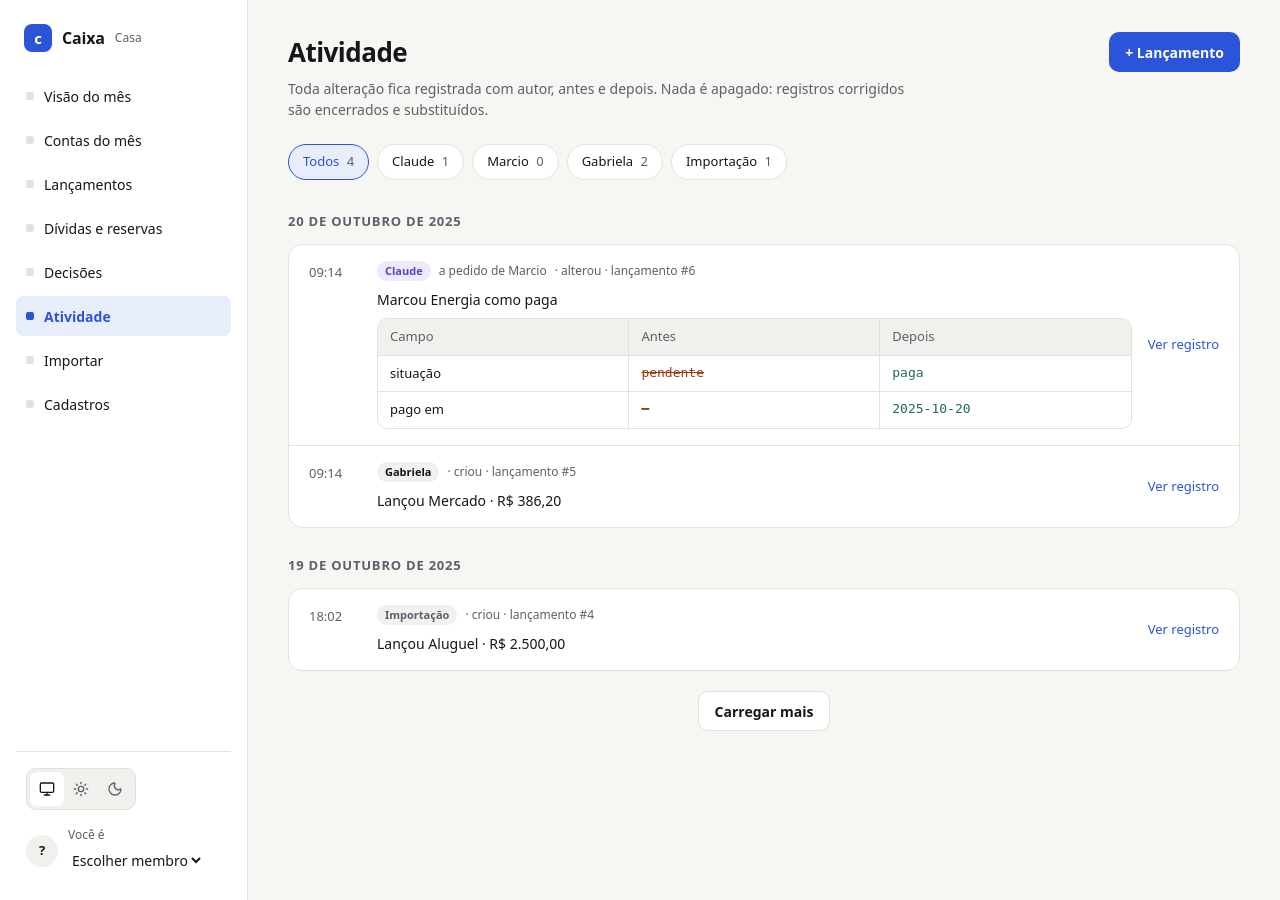
Scenario: loads older pages with the cursor
Click the button "Carregar mais".
click(764, 711)  # box x1=698 y1=691 x2=830 y2=731
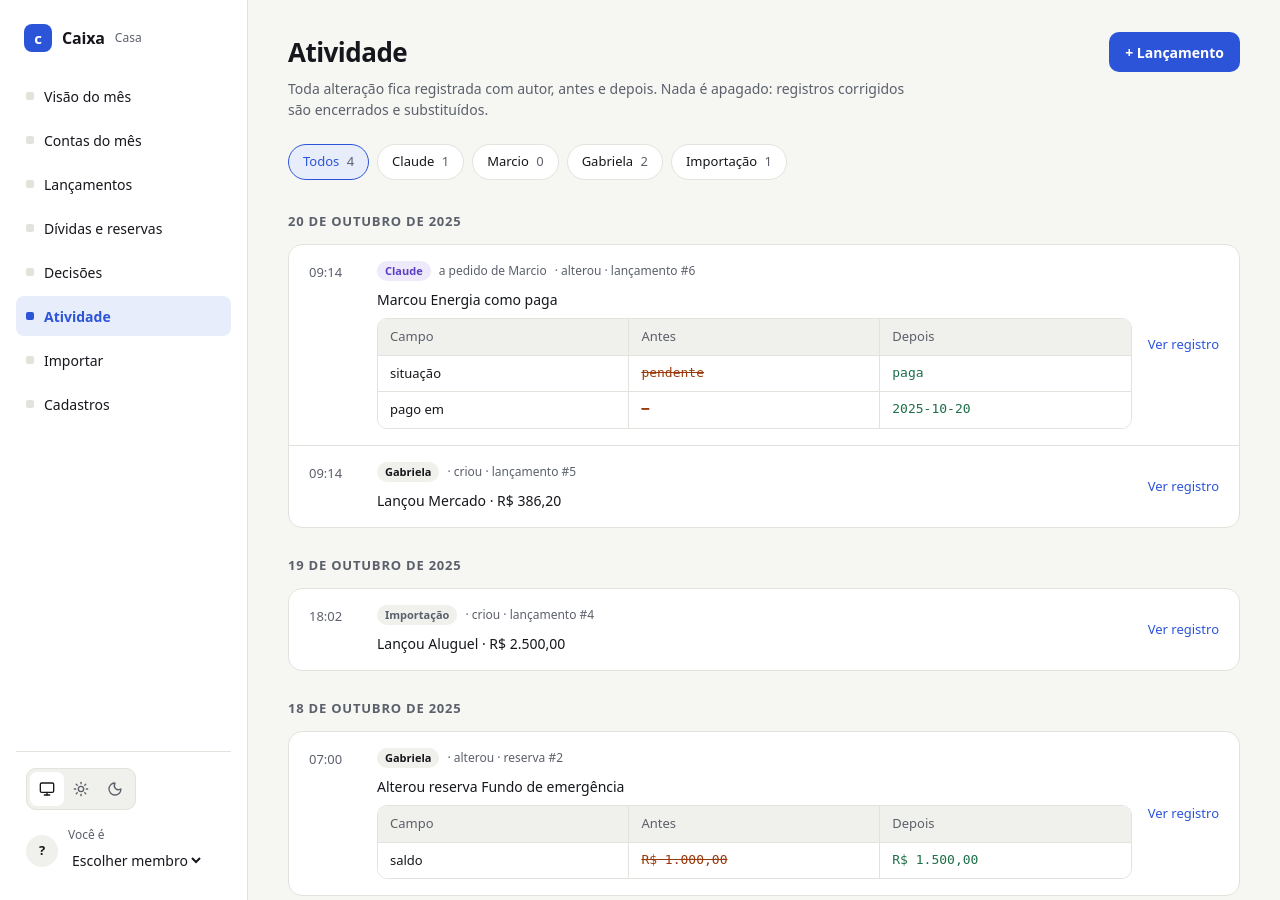
expect the text "Alterou reserva Fundo de emergência" is shown: met, box x1=377 y1=777 x2=624 y2=796
expect the button "Carregar mais" is gone: met
